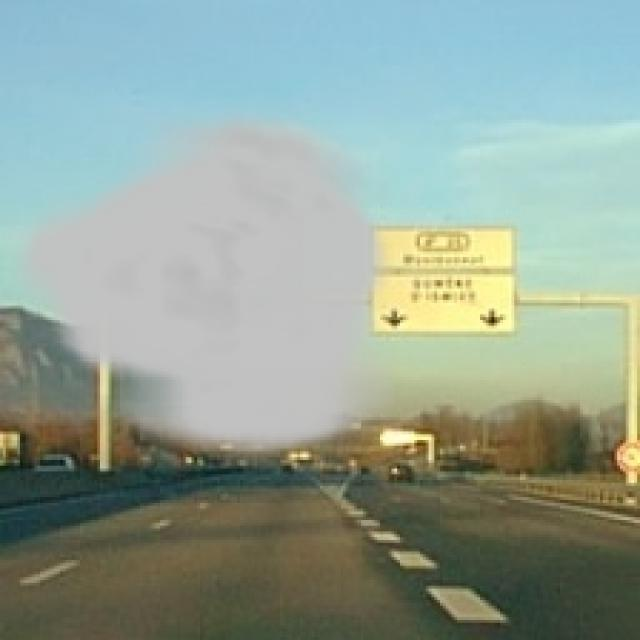Smoke: (8, 103, 394, 460)
